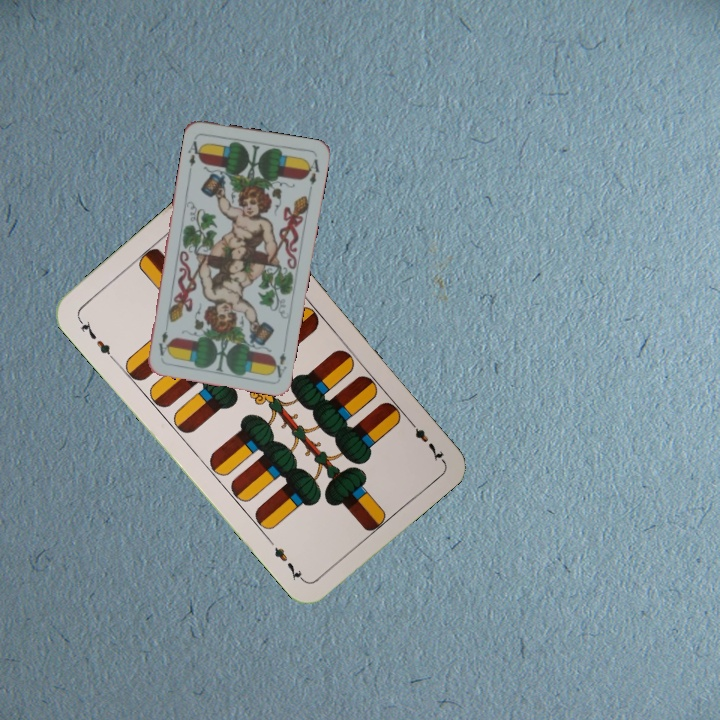E7: (403, 414, 446, 464), (74, 314, 117, 363)
EA: (184, 133, 205, 169), (269, 349, 289, 380)
